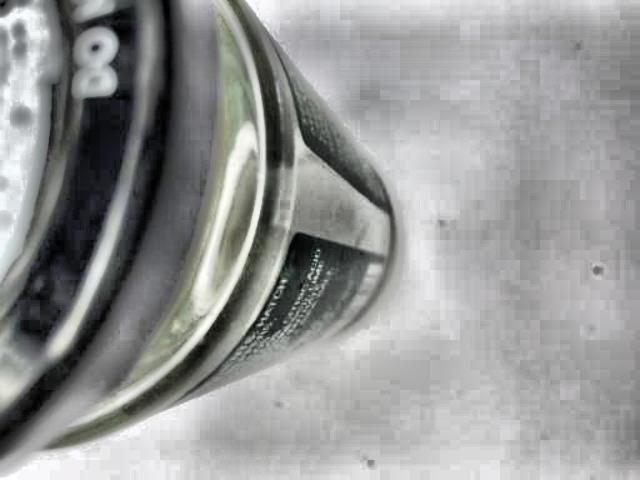Bottles: (4, 0, 399, 453)
